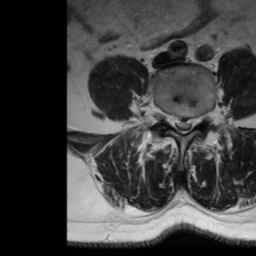CCS_stenosis: (178, 111, 186, 139)
LFS_normal: (194, 108, 202, 131)
LLS_normal: (186, 111, 194, 135)
RFS_normal: (164, 105, 172, 132)
RLS_normal: (171, 109, 178, 135)
